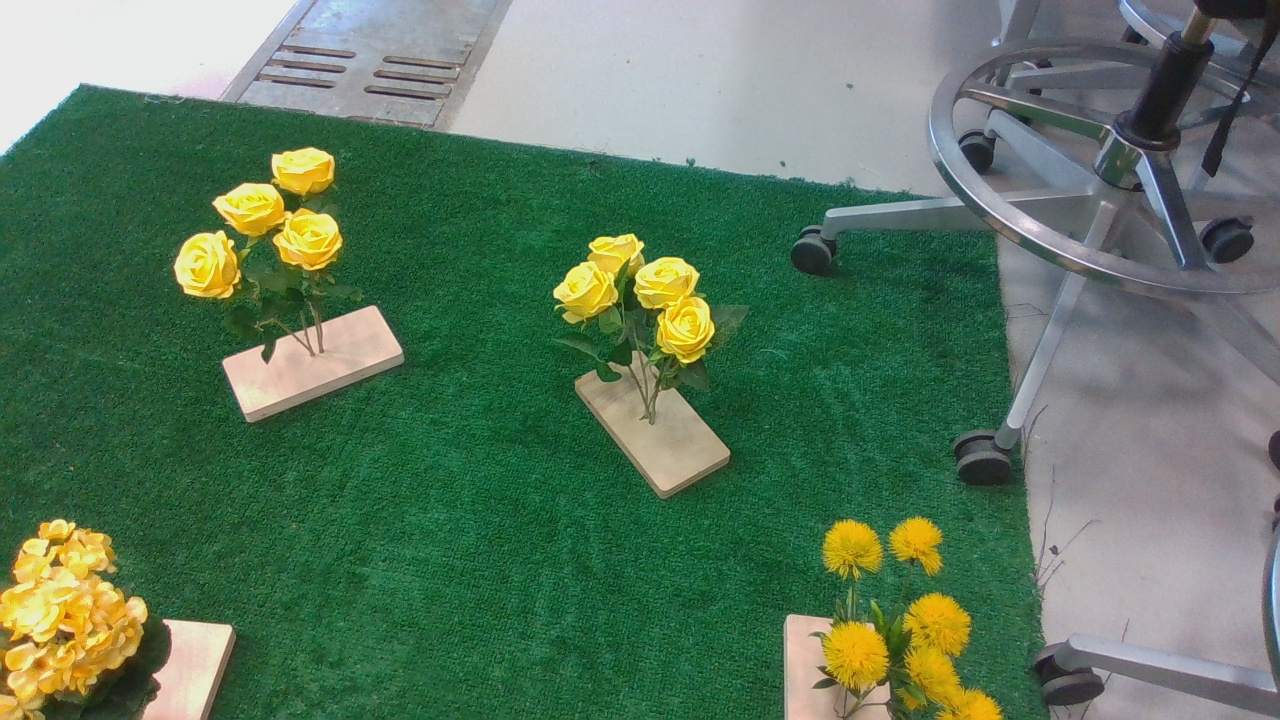dandelion: (795, 510, 1011, 720)
geranium: (7, 510, 176, 720)
rose: (553, 233, 762, 431), (163, 142, 366, 331)
